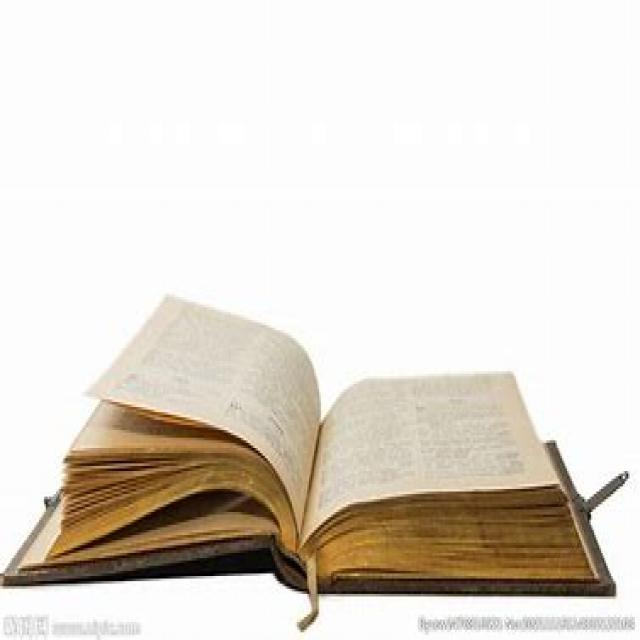pen: (2, 239, 637, 638)
